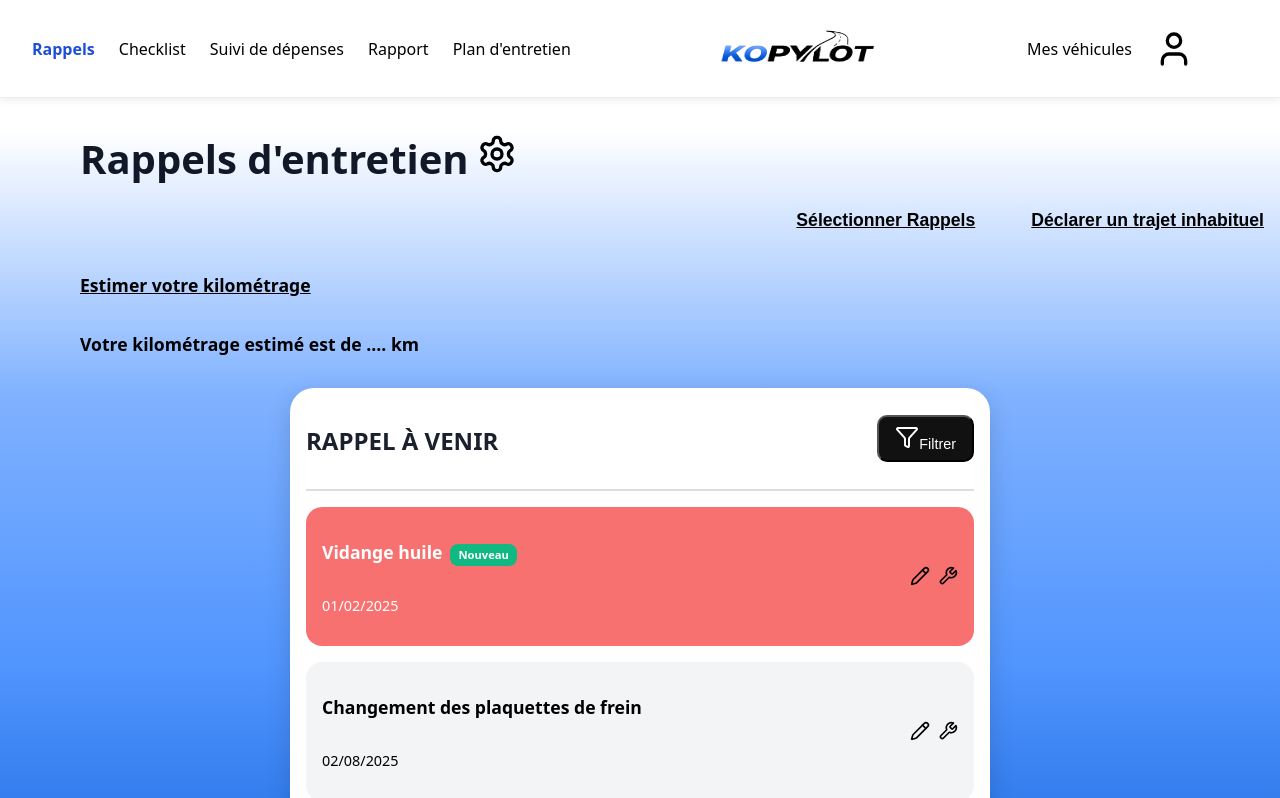
Test: RappelsPage - Couverture complète › déclare un trajet inhabituel
This screenshot has width=1280, height=798.
Click the button "Déclarer un trajet inhabituel" at (1148,221), box [1015, 202, 1279, 239]
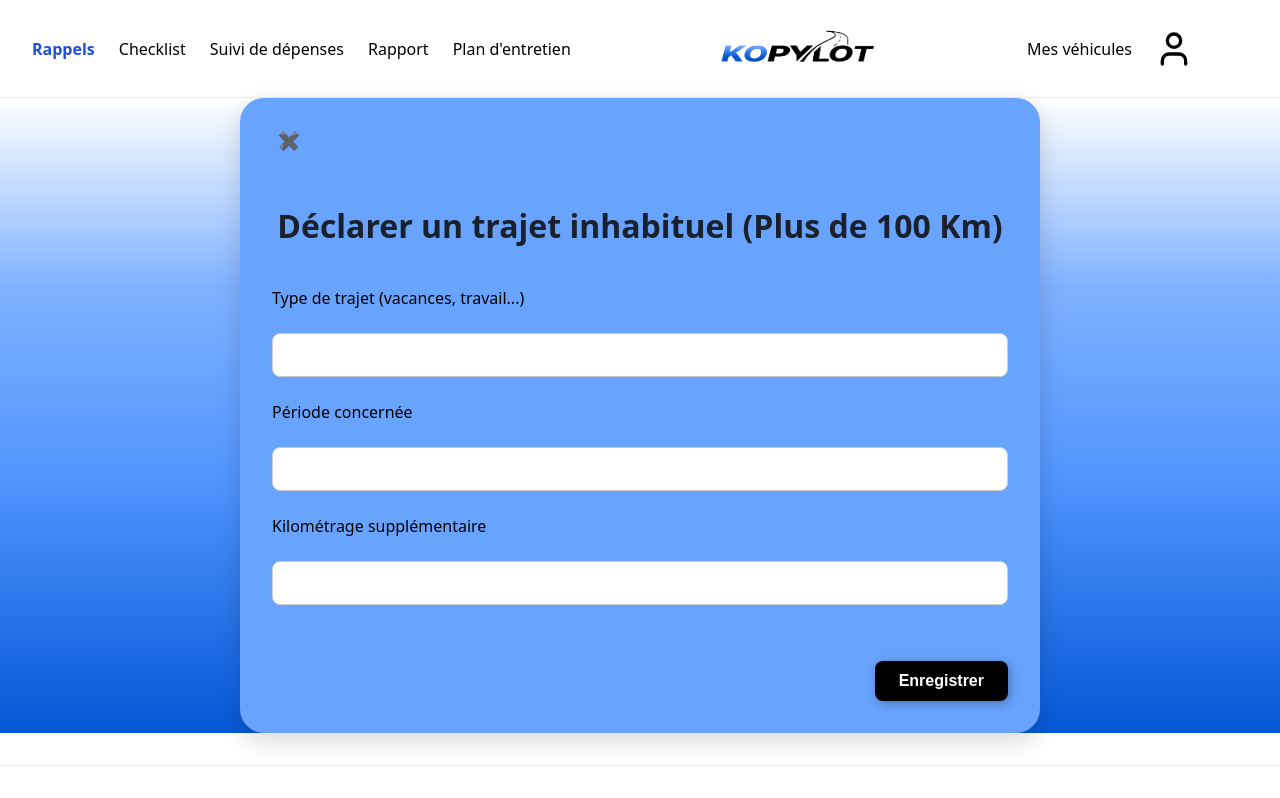
Type "Vacances" into the 1st field named "typeTrajet" at (640,355), box [272, 333, 1008, 377]
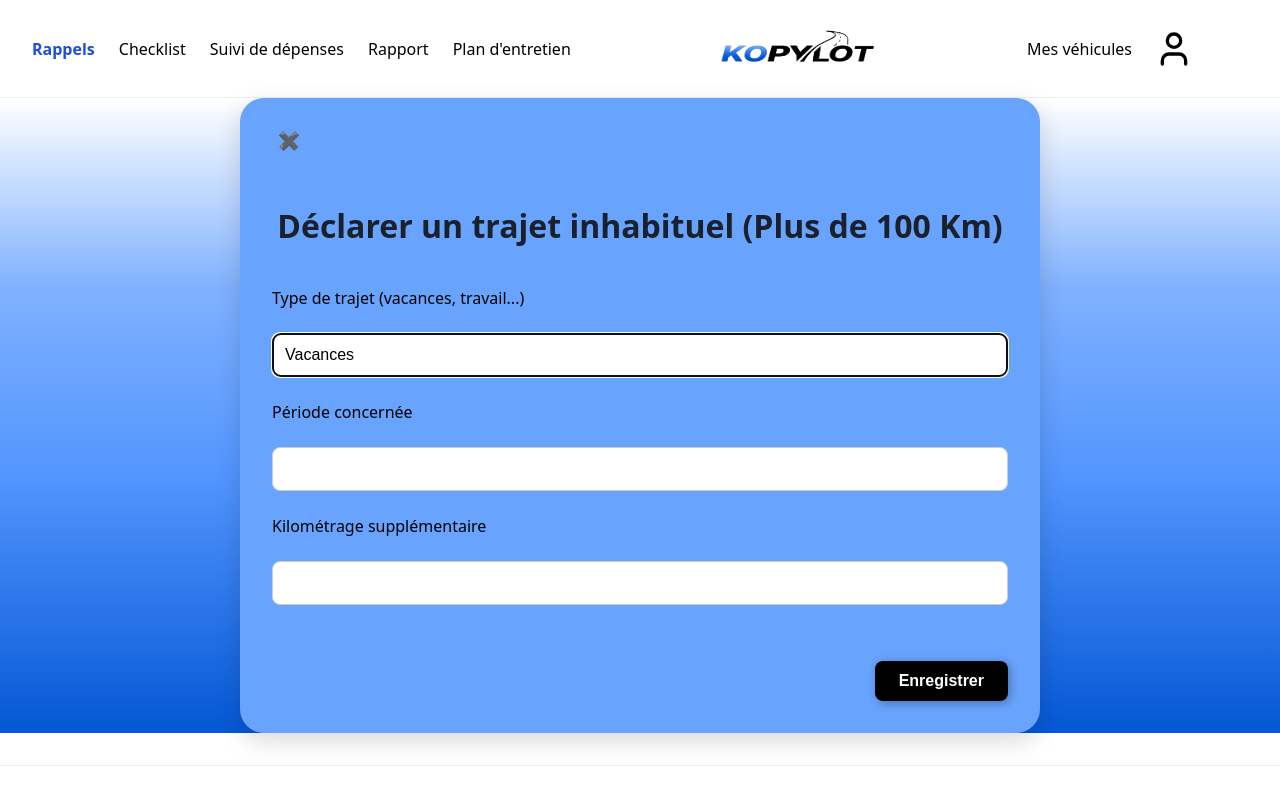
Type "Août 2025" into the 2nd field named "periode" at (640,469), box [272, 447, 1008, 491]
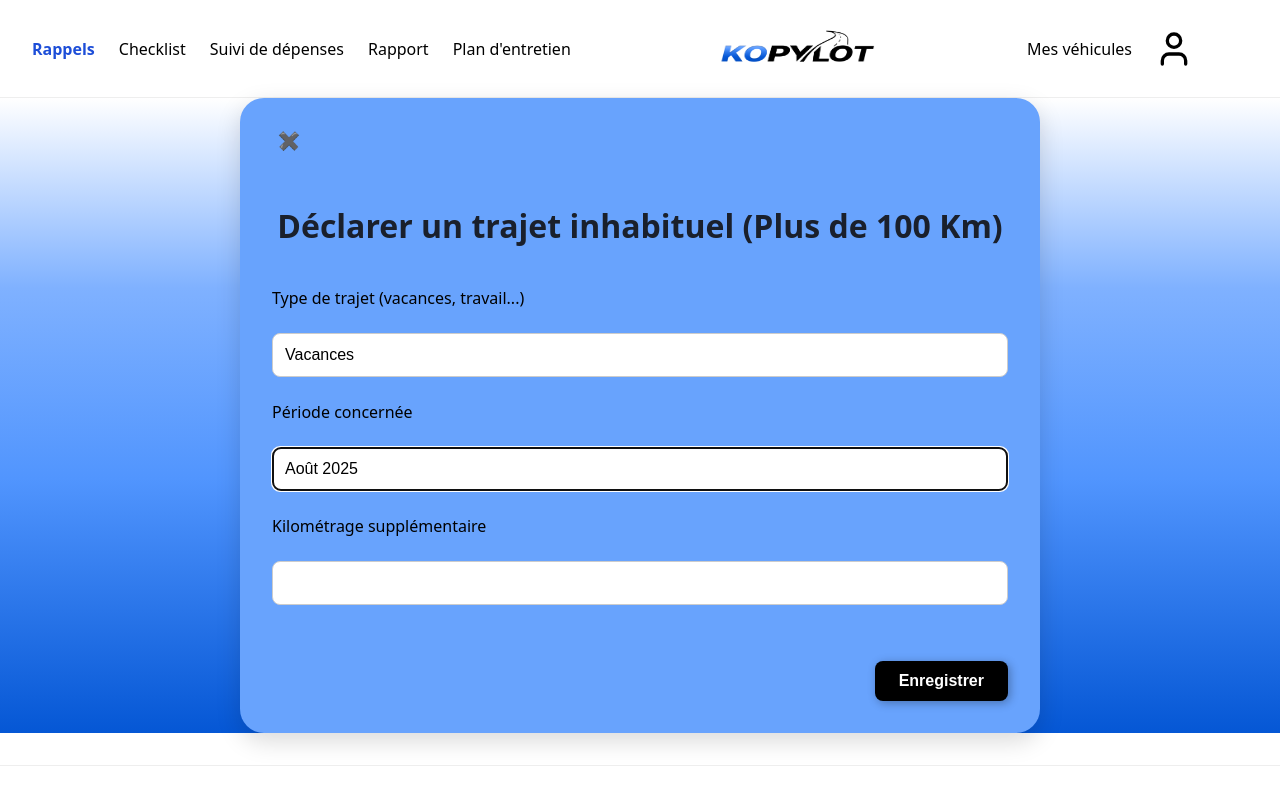
Type "3000" into the 3rd field named "kmSupp" at (640,583), box [272, 561, 1008, 605]
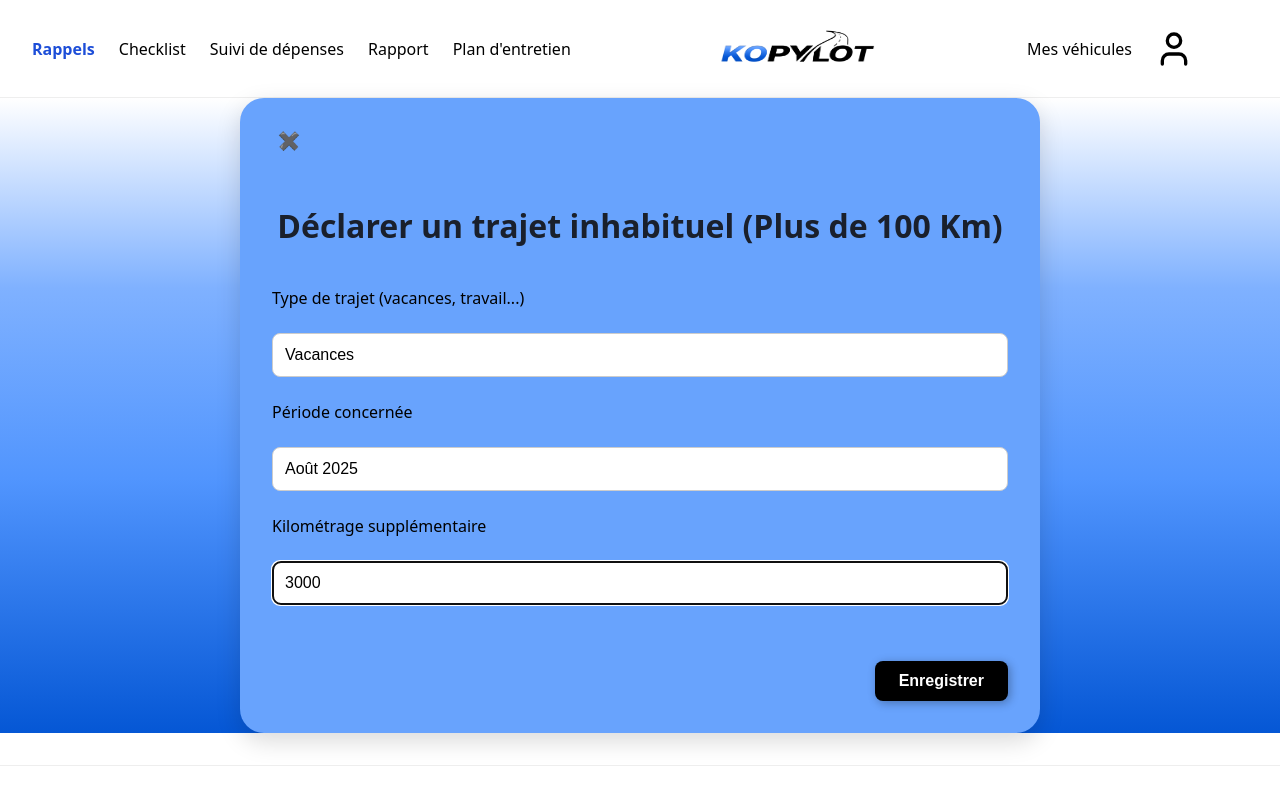
Click the button "Enregistrer" at (942,681), box [875, 661, 1008, 701]
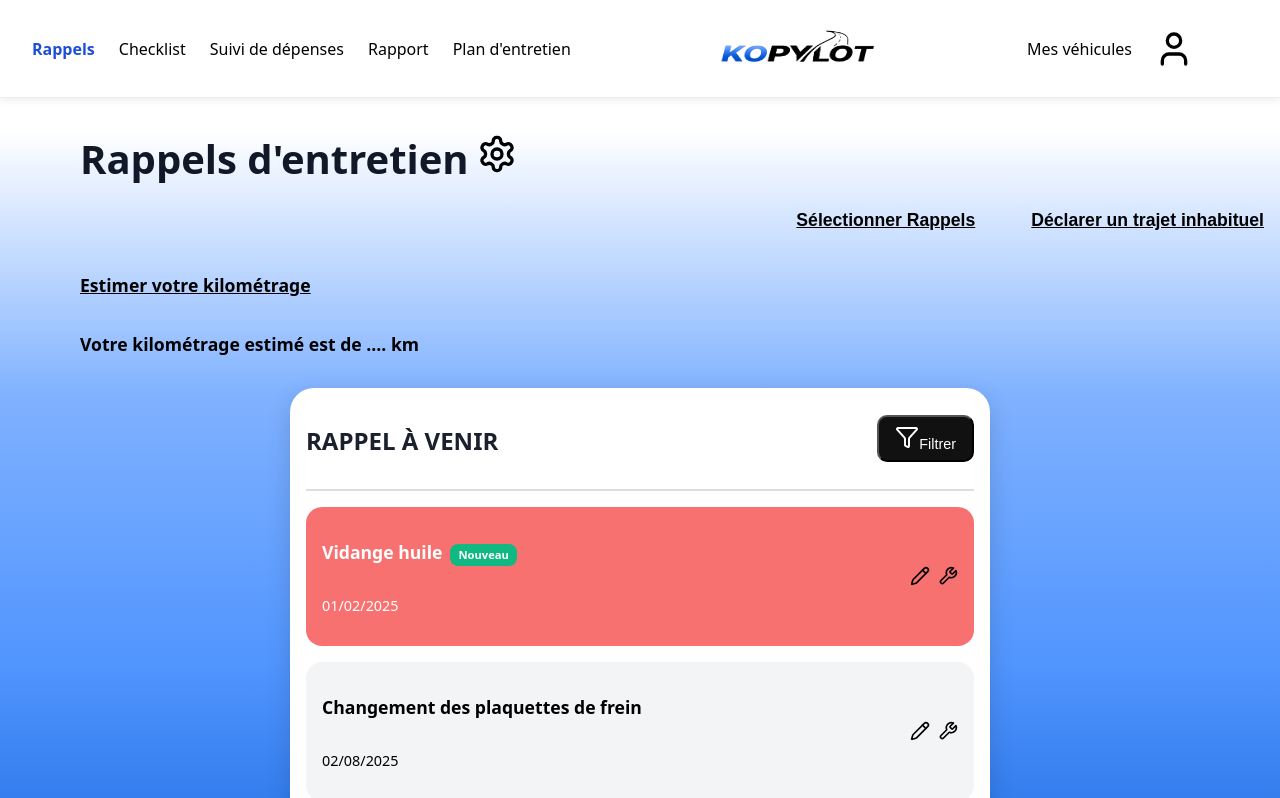
Expected: the heading "Rappels d'entretien" is shown, [80, 131, 517, 186]
